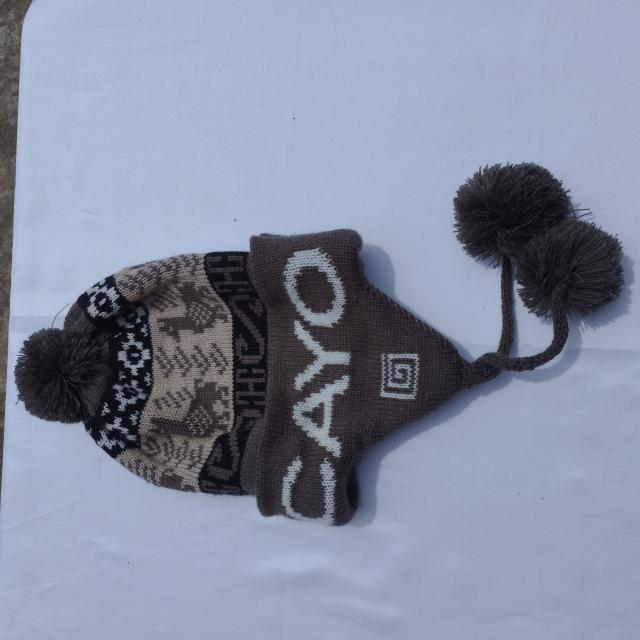Gorro: (14, 159, 626, 526)
